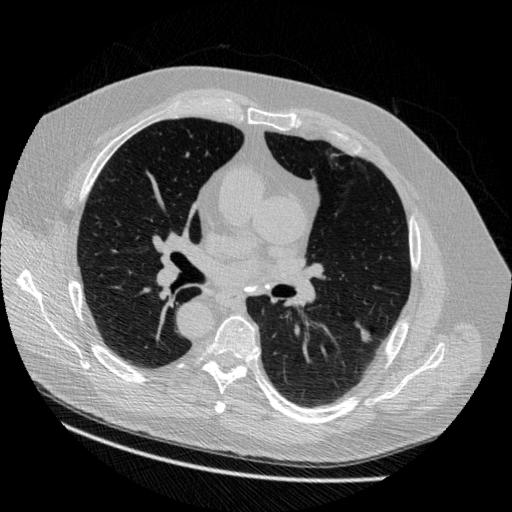nodule: (357, 323, 374, 340)
